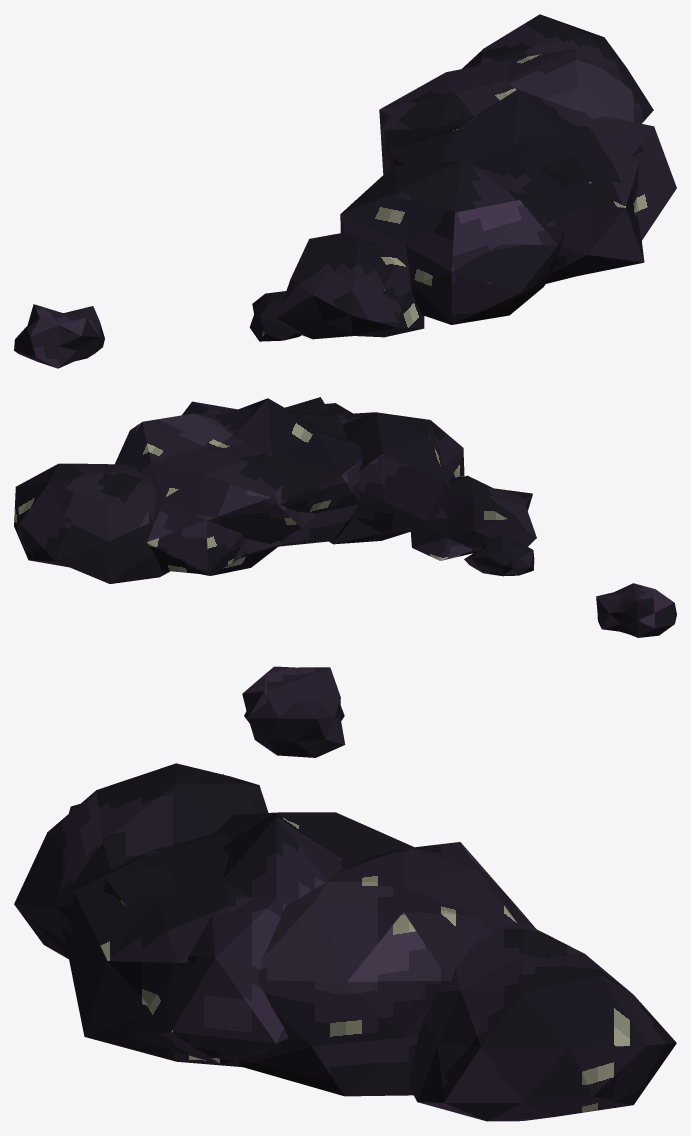
File: CORR_Organic_Growth.glb
The picture shows the model from 3 angles, top to bottom: view 1: azimuth 30°, elevation 25°; view 2: azimuth 150°, elevation 25°; view 3: azimuth 270°, elevation 25°; orthographic projection. The views are drawn at different scales.
Parts seen in each view (by area): view 1: CORR_Organic_Growth_Mesh; view 2: CORR_Organic_Growth_Mesh; view 3: CORR_Organic_Growth_Mesh.
Boxes of the visible parts, x1,y1,x2,y2 form: CORR_Organic_Growth_Mesh: [14, 14, 676, 368]; CORR_Organic_Growth_Mesh: [14, 397, 676, 637]; CORR_Organic_Growth_Mesh: [14, 666, 676, 1121].
Size of the model in its own units: 1.08 by 0.2403 by 0.6579.
Materials: 1 (1 with a texture image).
